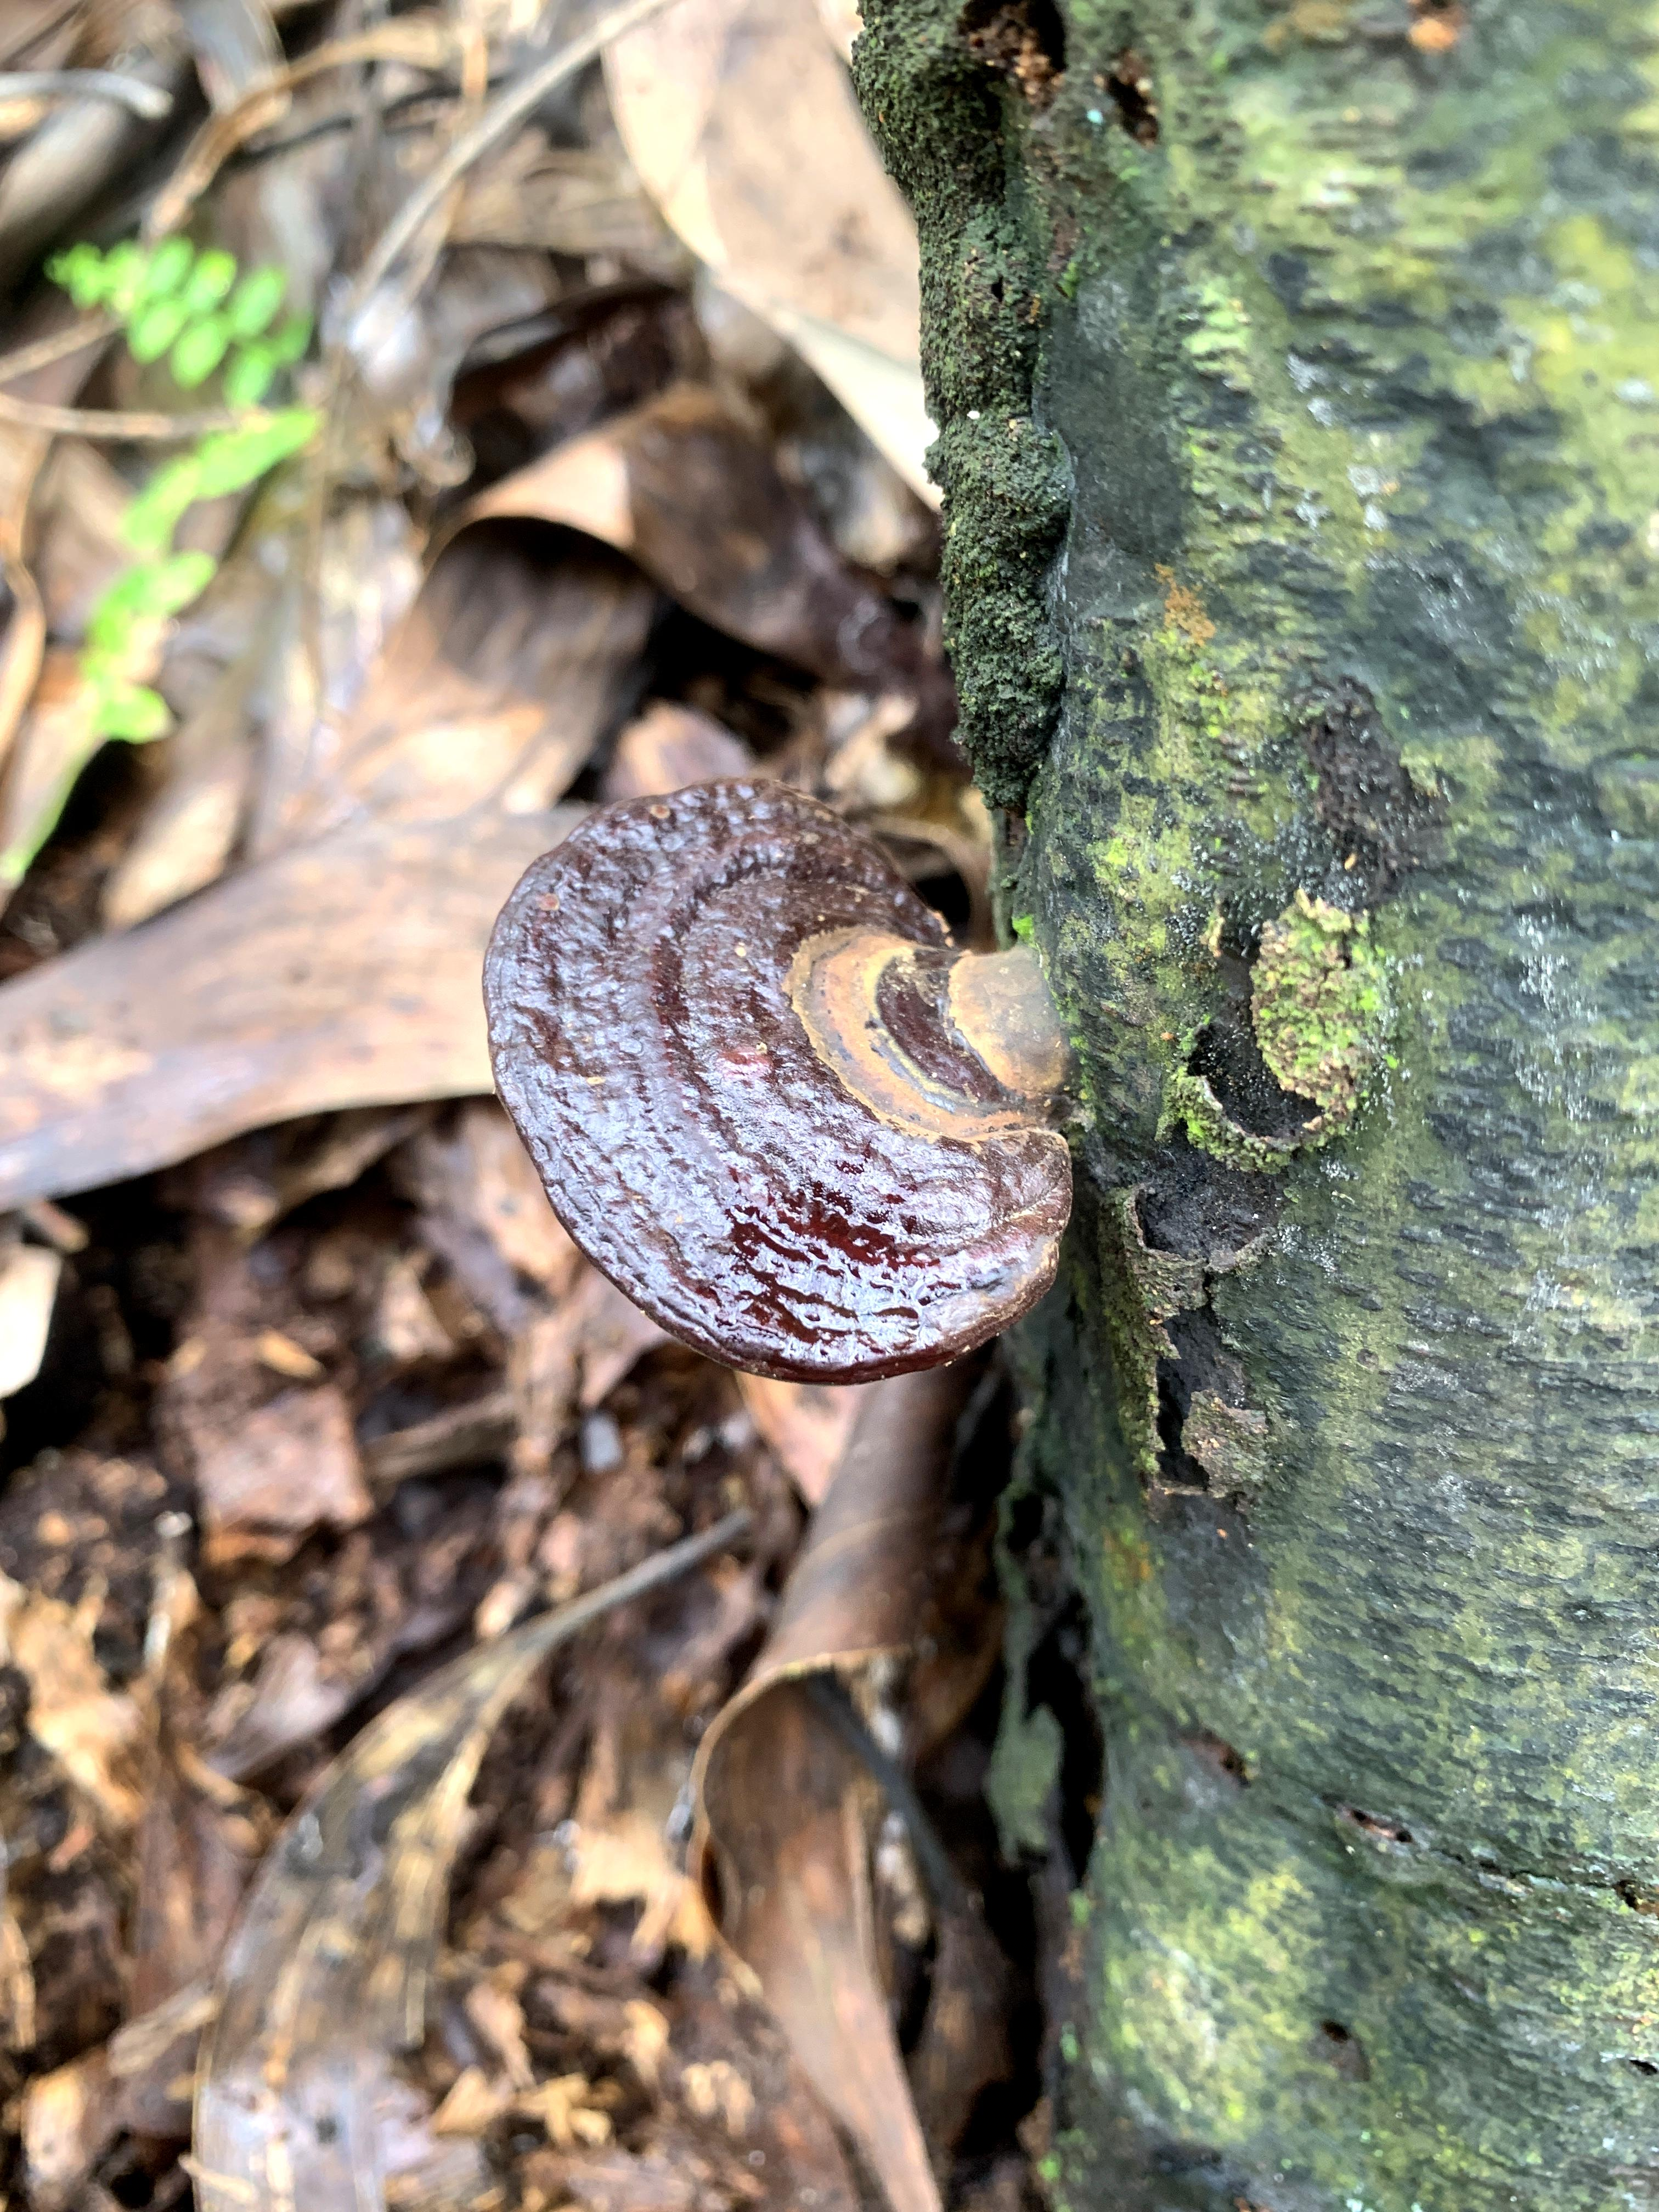Ganoderma - Fruit Body: (460, 725, 1126, 1386)
